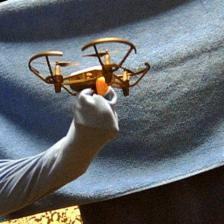drone: (27, 38, 152, 106)
